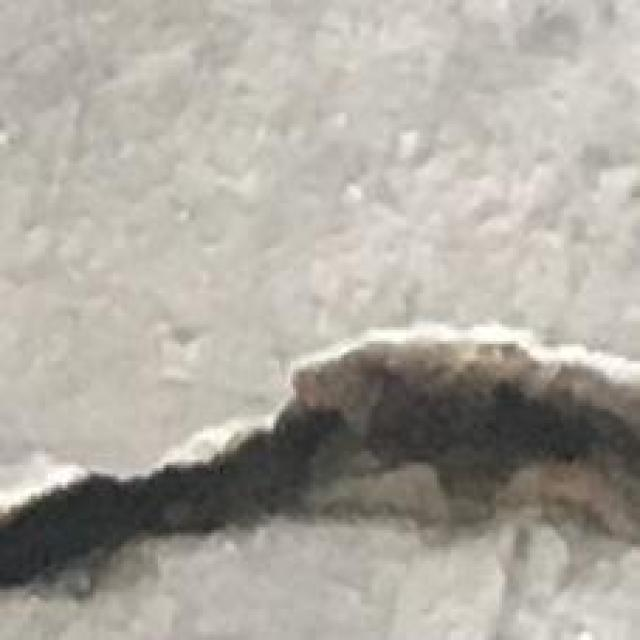horizontal crack: (0, 323, 639, 596)
